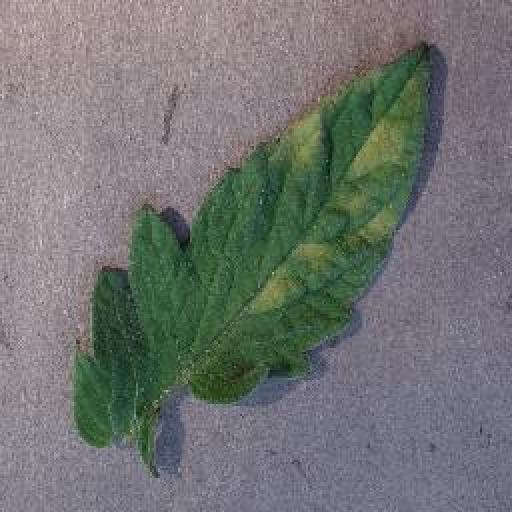Leaf Mold: (72, 42, 434, 450)
